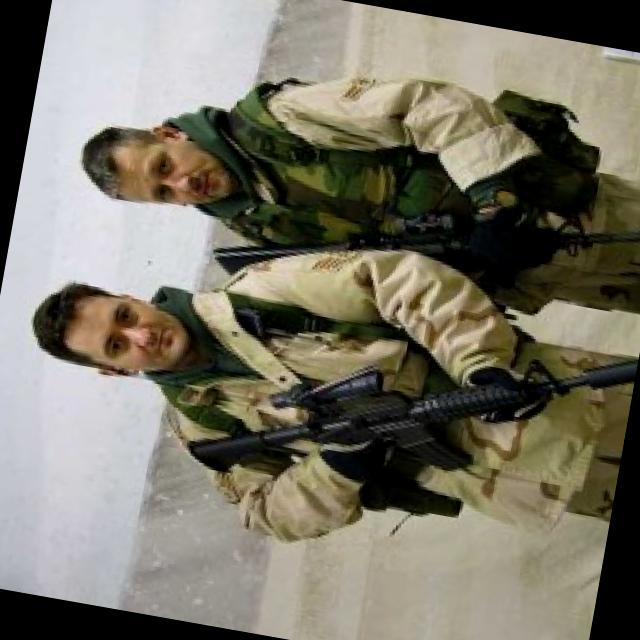long weapon: (182, 257, 639, 544), (203, 141, 639, 351)
